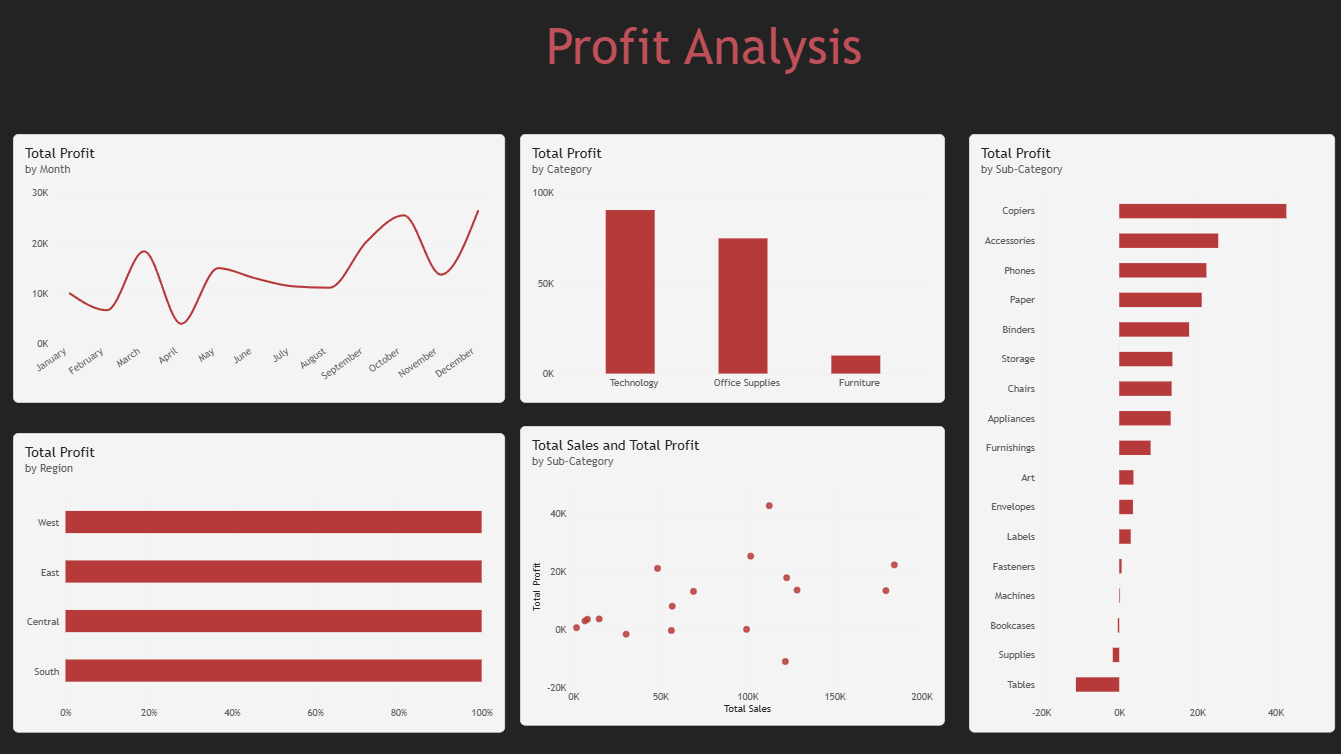

Layout of this report page (visuals, bound fields, positions):
{"tool":"powerbi","page":{"name":"Profit Analysis","canvas":[1920,1080],"ordinal":1},"visuals":[{"type":"lineChart","fields":{"Category":["Table1.Order Date.Variation.Date Hierarchy.Month"],"Y":["Table1.Total Profit"]},"box":[19.4,192.8,702.5,384.3],"z":0},{"type":"columnChart","fields":{"Category":["Table1.Category"],"Y":["Table1.Total Profit"]},"box":[743.9,192.8,606.8,384.3],"z":1},{"type":"clusteredBarChart","fields":{"Category":["Table1.Sub-Category"],"Y":["Table1.Total Profit"]},"box":[1385.7,192.8,522.7,855.2],"z":2},{"type":"hundredPercentStackedBarChart","fields":{"Category":["Table1.Region"],"Y":["Table1.Total Profit"]},"box":[19.4,619.7,702.5,428.2],"z":3},{"type":"scatterChart","fields":{"Category":["Table1.Sub-Category"],"X":["Table1.Total Sales"],"Y":["Table1.Total Profit"]},"box":[743.9,610.7,606.8,428.2],"z":4},{"type":"textbox","box":[781.5,24.6,533,125.5],"z":5}]}

Visuals, with their boxes in screenshot pixels (x1, y1, x2, y2), scaled from the page's 1920x1080 canvas onto the 1341x754 screenshot:
lineChart - Table1.Order Date.Variation.Date Hierarchy.Month x Table1.Total Profit: [left=14, top=135, right=504, bottom=403]
columnChart - Table1.Category x Table1.Total Profit: [left=520, top=135, right=943, bottom=403]
clusteredBarChart - Table1.Sub-Category x Table1.Total Profit: [left=968, top=135, right=1333, bottom=732]
hundredPercentStackedBarChart - Table1.Region x Table1.Total Profit: [left=14, top=433, right=504, bottom=732]
scatterChart - Table1.Sub-Category x Table1.Total Sales: [left=520, top=426, right=943, bottom=725]
textbox: [left=546, top=17, right=918, bottom=105]
